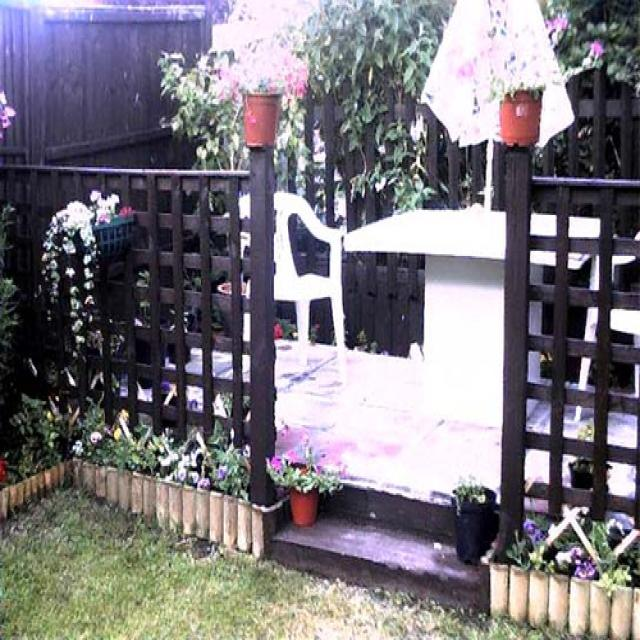chair: (233, 189, 349, 383), (573, 228, 640, 423)
pottedplant: (159, 49, 310, 339), (455, 10, 608, 151), (37, 192, 138, 354), (215, 34, 311, 150), (264, 442, 347, 529), (448, 481, 500, 568), (569, 426, 595, 489)
